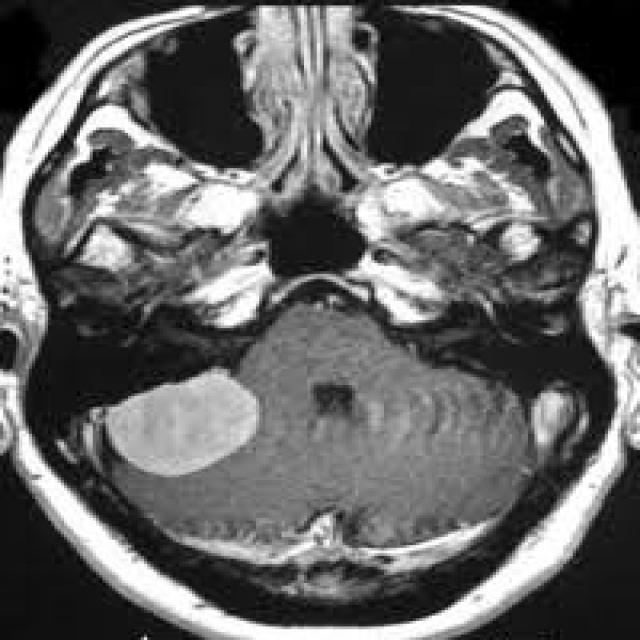Meningioma: (100, 370, 259, 477)
